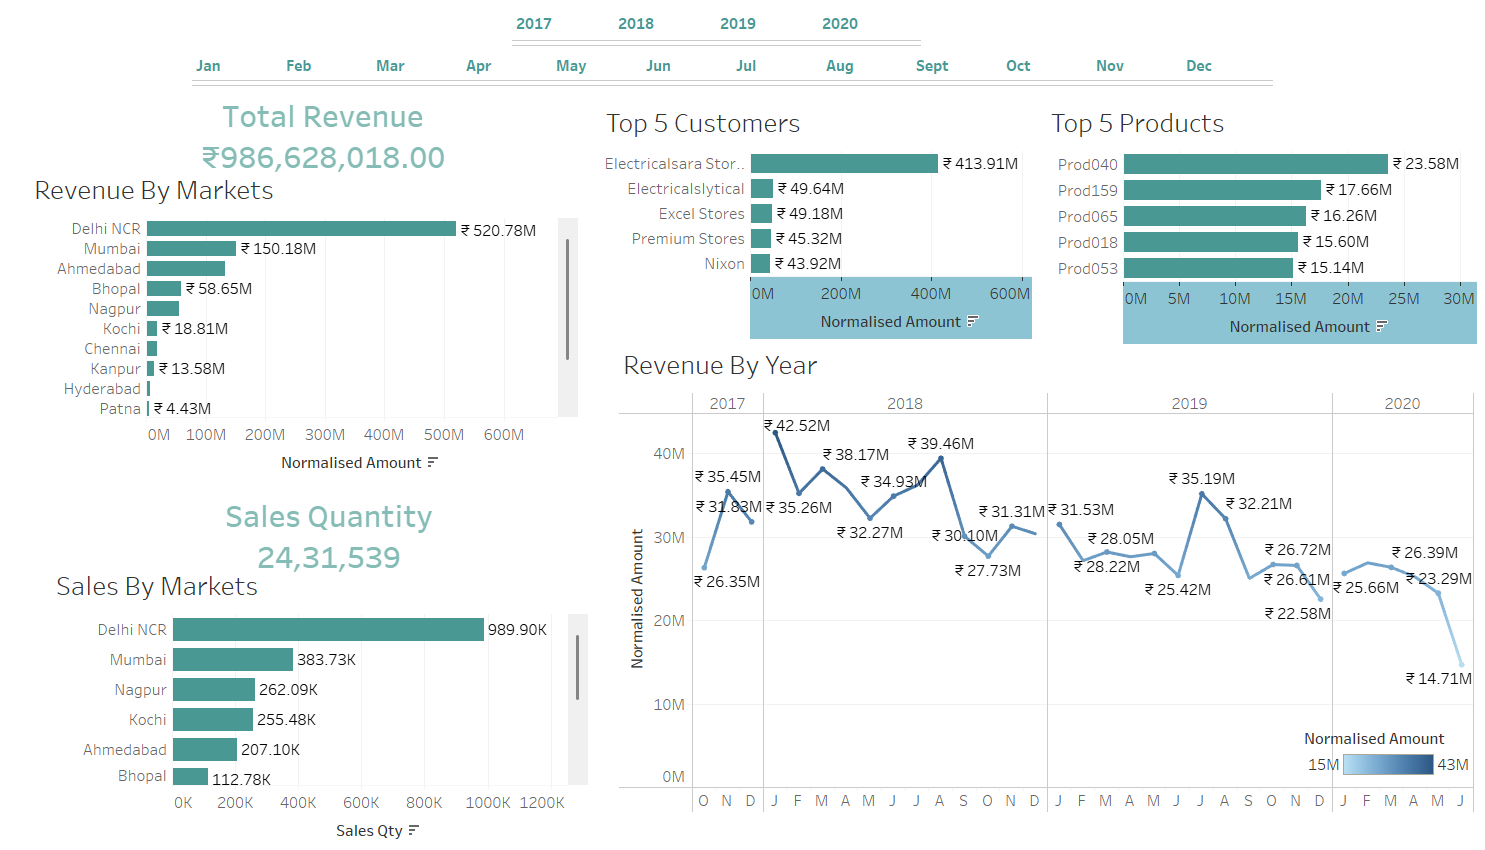

What the dashboard file says about the page in this screenshot:
{"tool":"tableau","page":{"name":"Dashboard 1","canvas":[1500,900],"ordinal":0},"visuals":[{"type":"worksheet","title":"Year","mark":"Automatic","cols":["cy_date"],"box":[515,6,413,44]},{"type":"worksheet","title":"Month","mark":"Automatic","cols":["cy_date"],"box":[195,50,1094,40]},{"type":"worksheet","title":"Revenue","mark":"Automatic","box":[197,92,261,90]},{"type":"worksheet","title":"Top 5 Customers","mark":"Automatic","rows":["custmer_name"],"cols":["Calculation_2113877084138029056"],"box":[605,101,430,264]},{"type":"worksheet","title":"Top 5 Products","mark":"Automatic","rows":["product_code (products)"],"cols":["Calculation_2113877084138029056"],"box":[1050,101,430,263]},{"type":"worksheet","title":"Revenue By Markets","mark":"Automatic","rows":["markets_name"],"cols":["Calculation_2113877084138029056"],"box":[33,168,548,312]},{"type":"worksheet","title":"Revenue By Year","mark":"Automatic","rows":["Calculation_2113877084138029056"],"cols":["cy_date","cy_date"],"box":[622,343,856,470]},{"type":"worksheet","title":"Quantity","mark":"Automatic","box":[222,494,232,88]},{"type":"worksheet","title":"Sales By Markets","mark":"Automatic","rows":["markets_name"],"cols":["sales_qty"],"box":[55,564,536,284]},{"type":"legend","title":"Revenue By Year","param":"[federated.03i5a9v0c5yczy1dzznm10rb4lxu].[sum:Calculation_2113877084138029056:qk","box":[1307,728,170,88]}]}

Visuals, with their boxes on the page's 1500x900 design canvas (x1, y1, x2, y2). These are canvas units, not pixel positions in the 1485x850 screenshot, which may show the page scaled, cropped or inside an application window:
"Year" worksheet: 515:6:928:50
"Month" worksheet: 195:50:1289:90
"Revenue" worksheet: 197:92:458:182
"Top 5 Customers" worksheet: 605:101:1035:365
"Top 5 Products" worksheet: 1050:101:1480:364
"Revenue By Markets" worksheet: 33:168:581:480
"Revenue By Year" worksheet: 622:343:1478:813
"Quantity" worksheet: 222:494:454:582
"Sales By Markets" worksheet: 55:564:591:848
"Revenue By Year" legend: 1307:728:1477:816
